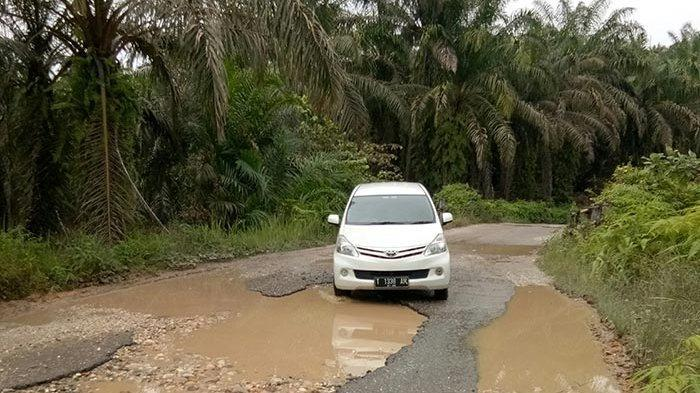Pothole: (15, 249, 429, 393), (449, 265, 692, 393), (455, 229, 554, 268)
